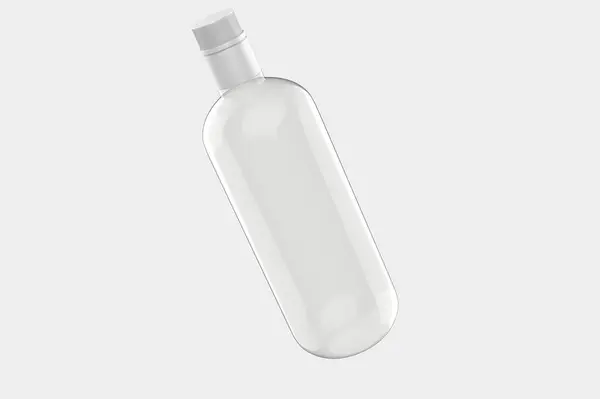glass_bottle: (169, 6, 419, 372)
